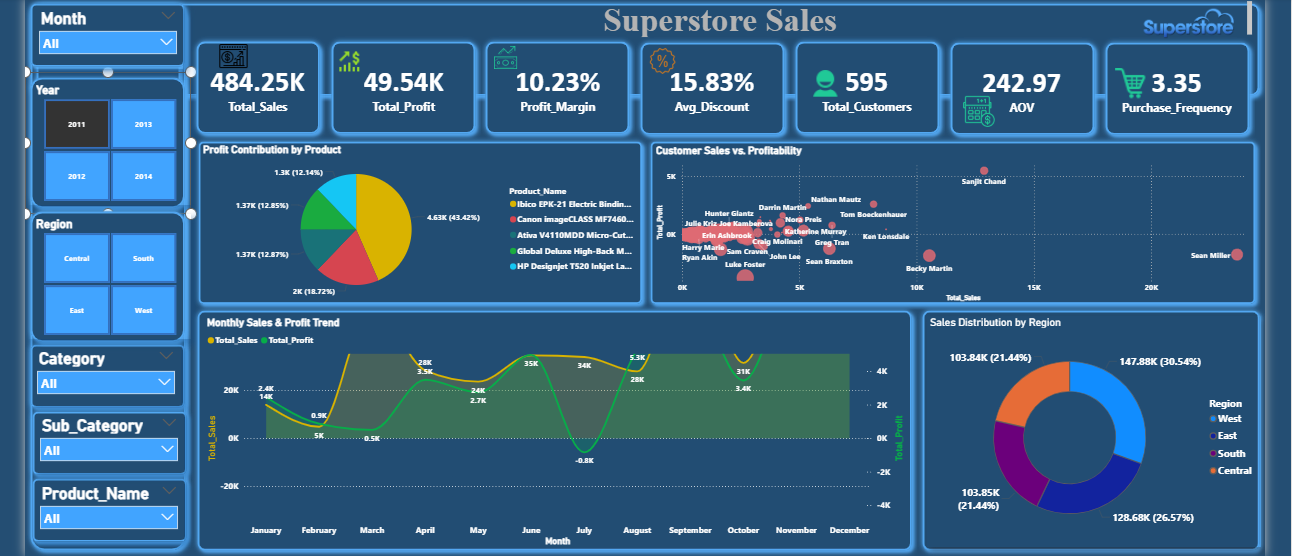

What the dashboard file says about the page in this screenshot:
{"tool":"powerbi","page":{"name":"Page 1","canvas":[2000,900],"ordinal":0},"visuals":[{"type":"shape","box":[0,0,2000,166.7],"z":0},{"type":"shape","box":[0,0,268.3,900],"z":1000},{"type":"shape","box":[268.3,61.2,216.7,166.7],"z":2000,"group":"g5"},{"type":"group","id":"g1","title":"Group 1","box":[1733.4,62.9,250,166.7],"z":2000,"group":"g18"},{"type":"shape","box":[484.7,60.7,250,166.7],"z":3000,"group":"g4"},{"type":"group","id":"g2","title":"Group 2","box":[1483.6,62.5,250,166.7],"z":3000,"group":"g19"},{"type":"shape","box":[10,10,250,166.7],"z":4000},{"type":"shape","box":[734.4,61.6,250,166.7],"z":4000,"group":"g3"},{"type":"shape","box":[984.2,63.3,250,166.7],"z":4000,"group":"g16"},{"type":"group","id":"g3","title":"Group 4","box":[734.4,61.6,250,166.7],"z":5000,"group":"g22"},{"type":"shape","box":[1233.9,62,250,166.7],"z":5000,"group":"g17"},{"type":"group","id":"g4","title":"Group 5","box":[484.7,60.7,250,166.7],"z":6000,"group":"g23"},{"type":"shape","box":[1483.6,62.5,250,166.7],"z":6000,"group":"g2"},{"type":"group","id":"g5","title":"Group 6","box":[268.3,61.2,216.7,166.7],"z":7000,"group":"g21"},{"type":"shape","box":[1733.4,62.9,250,166.7],"z":7000,"group":"g1"},{"type":"card","fields":{"Values":["All_Measure.Total_Sales"]},"box":[281.3,74.5,189.2,138.3],"z":8000,"group":"g5"},{"type":"group","id":"g6","title":"Group 7","box":[0,120,268.3,228.3],"z":8000},{"type":"shape","box":[0,120,266.7,228.3],"z":8000,"group":"g6"},{"type":"shape","box":[0,335,266.7,228.3],"z":8000,"group":"g8"},{"type":"card","fields":{"Values":["All_Measure.Total_Profit"]},"box":[500,74,218.3,138.3],"z":8001,"group":"g4"},{"type":"card","fields":{"Values":["All_Measure.Profit_Margin"]},"box":[750.1,74.9,218.3,138.3],"z":8002,"group":"g3"},{"type":"card","fields":{"Values":["All_Measure.Avg_Discount"]},"box":[999.2,74.9,218.3,138.3],"z":8002,"group":"g16"},{"type":"card","fields":{"Values":["All_Measure.Total_Customers"]},"box":[1248.2,75.3,218.3,138.3],"z":8003,"group":"g17"},{"type":"card","fields":{"Values":["All_Measure.AOV"]},"box":[1498.3,75.8,218.3,138.3],"z":8004,"group":"g2"},{"type":"card","fields":{"Values":["All_Measure.Purchase_Frequency"]},"box":[1748.4,76.1,218.3,138.3],"z":8005,"group":"g1"},{"type":"slicer","fields":{"Values":["FactSales.Order_Date.Variation.Date Hierarchy.Year"]},"box":[5,133.3,263.3,201.7],"z":9000,"group":"g6"},{"type":"slicer","fields":{"Values":["Dim_Geography.Region"]},"box":[5,348.3,263.3,201.7],"z":9000,"group":"g8"},{"type":"group","id":"g7","title":"Group 9","box":[0,550,266.7,120],"z":9000},{"type":"shape","box":[3.3,658.3,266.7,120],"z":9000,"group":"g10"},{"type":"group","id":"g8","title":"Group 10","box":[0,335,268.3,228.3],"z":10000},{"type":"shape","box":[0,0,266.7,120],"z":11000,"group":"g11"},{"type":"group","id":"g9","title":"Group 8","box":[3.3,766.7,266.7,120],"z":11000},{"type":"group","id":"g10","title":"Group 11","box":[3.3,658.3,266.7,120],"z":12000},{"type":"group","id":"g11","title":"Group 12","box":[0,0,266.7,120],"z":13000},{"type":"slicer","fields":{"Values":["FactSales.Order_Date.Variation.Date Hierarchy.Month"]},"box":[13.3,11.7,241.7,103.3],"z":13000,"group":"g11"},{"type":"shape","box":[0,550,266.7,120],"z":13000,"group":"g7"},{"type":"group","id":"g12","title":"Group 13","box":[1000,223.3,993.3,280],"z":14000},{"type":"shape","box":[270,495,1170,405],"z":14000,"group":"g14"},{"type":"slicer","fields":{"Values":["Dim_Product.Category"]},"box":[10,560,241.7,98.3],"z":14000,"group":"g7"},{"type":"shape","box":[3.3,766.7,266.7,120],"z":14000,"group":"g9"},{"type":"group","id":"g13","title":"Group 14","box":[1438.3,495,561.7,405],"z":15000},{"type":"areaChart","title":"Monthly Sales & Profit Trend","fields":{"Category":["FactSales.Order_Date.Variation.Date Hierarchy.Month"],"Y":["All_Measure.Total_Sales"],"Y2":["All_Measure.Total_Profit"]},"box":[290,513.3,1133.3,376.7],"z":15000,"group":"g14"},{"type":"slicer","fields":{"Values":["Dim_Product.Sub_Category"]},"box":[15,668.3,241.7,98.3],"z":15000,"group":"g10"},{"type":"group","id":"g14","title":"Group 15","box":[270,495,1170,405],"z":16000},{"type":"shape","box":[1438.3,495,561.7,405],"z":16000,"group":"g13"},{"type":"slicer","fields":{"Values":["Dim_Product.Product_Name"]},"box":[15,778.4,241.7,98.3],"z":16000,"group":"g9"},{"type":"group","id":"g15","title":"Group 16","box":[271.7,223.3,733.3,280],"z":17000},{"type":"donutChart","title":"Sales Distribution by Region","fields":{"Category":["Dim_Geography.Region"],"Y":["All_Measure.Total_Sales"]},"box":[1455,513.3,538.3,373.3],"z":17000,"group":"g13"},{"type":"textbox","box":[266,0,1718,68],"z":18000},{"type":"shape","box":[271.7,223.3,733.3,280],"z":18000,"group":"g15"},{"type":"group","id":"g16","title":"Group 4","box":[984.2,63.3,250,166.7],"z":19000,"group":"g24"},{"type":"pieChart","title":"Profit Contribution by Product","fields":{"Category":["Dim_Product.Product_Name"],"Y":["All_Measure.Total_Profit"]},"box":[283.4,235,716.7,260],"z":19000,"group":"g15"},{"type":"group","id":"g17","title":"Group 3","box":[1233.9,62,250,166.7],"z":20000,"group":"g20"},{"type":"shape","box":[1000,223.3,993.3,280],"z":20000,"group":"g12"},{"type":"image","box":[1789.4,10.8,176.4,57.6],"z":21000},{"type":"scatterChart","title":"Customer Sales vs. Profitability","fields":{"X":["All_Measure.Total_Sales"],"Y":["All_Measure.Total_Profit"],"Category":["Dim_Customer.Customer_Name"],"Size":["Sum(FactSales.Discount)"]},"box":[1012.4,235.7,970.9,258.7],"z":21000,"group":"g12"},{"type":"image","box":[282.6,68.4,108,52.2],"z":22000,"group":"g21"},{"type":"image","box":[500.4,75.6,43.2,52.2],"z":22001,"group":"g23"},{"type":"image","box":[738,72,75.6,50.4],"z":22002,"group":"g22"},{"type":"image","box":[984.7,79.2,88.2,45],"z":22003,"group":"g24"},{"type":"image","box":[1269.1,95.4,43.2,84.6],"z":22004,"group":"g20"},{"type":"image","box":[1508.5,133.2,55.8,91.8],"z":22005,"group":"g19"},{"type":"image","box":[1715.6,113.4,133.2,48.6],"z":22006,"group":"g18"},{"type":"group","id":"g18","title":"Group 17","box":[1715.6,62.9,267.8,166.7],"z":22007},{"type":"group","id":"g19","title":"Group 18","box":[1483.6,62.5,250,166.7],"z":22008},{"type":"group","id":"g20","title":"Group 19","box":[1233.9,62,250,166.7],"z":22009},{"type":"group","id":"g21","title":"Group 23","box":[268.3,61.2,216.7,166.7],"z":22013},{"type":"group","id":"g22","title":"Group 21","box":[734.4,61.6,250,166.7],"z":22014},{"type":"group","id":"g23","title":"Group 22","box":[484.7,60.7,250,166.7],"z":22015},{"type":"group","id":"g24","title":"Group 20","box":[984.2,63.3,250,166.7],"z":22016}]}

Visuals, with their boxes in screenshot pixels (x1, y1, x2, y2):
shape: [27,0,1244,101]
shape: [27,0,190,547]
shape: [190,37,322,139]
"Group 1" group: [1081,38,1233,140]
shape: [322,37,474,138]
"Group 2" group: [929,38,1081,139]
shape: [33,6,185,107]
shape: [474,37,626,139]
shape: [626,39,778,140]
"Group 4" group: [474,37,626,139]
shape: [778,38,930,139]
"Group 5" group: [322,37,474,138]
shape: [929,38,1081,139]
"Group 6" group: [190,37,322,139]
shape: [1081,38,1233,140]
card - All_Measure.Total_Sales: [198,45,313,129]
"Group 7" group: [27,73,190,212]
shape: [27,73,189,212]
shape: [27,204,189,343]
card - All_Measure.Total_Profit: [331,45,464,129]
card - All_Measure.Profit_Margin: [483,46,616,130]
card - All_Measure.Avg_Discount: [635,46,768,130]
card - All_Measure.Total_Customers: [786,46,919,130]
card - All_Measure.AOV: [938,46,1071,130]
card - All_Measure.Purchase_Frequency: [1090,46,1223,130]
slicer - FactSales.Order_Date.Variation.Date Hierarchy.Year: [30,81,190,204]
slicer - Dim_Geography.Region: [30,212,190,335]
"Group 9" group: [27,335,189,408]
shape: [29,400,191,473]
"Group 10" group: [27,204,190,343]
shape: [27,0,189,73]
"Group 8" group: [29,466,191,539]
"Group 11" group: [29,400,191,473]
"Group 12" group: [27,0,189,73]
slicer - FactSales.Order_Date.Variation.Date Hierarchy.Month: [35,7,182,70]
shape: [27,335,189,408]
"Group 13" group: [635,136,1239,306]
shape: [191,301,903,547]
slicer - Dim_Product.Category: [33,341,180,400]
shape: [29,466,191,539]
"Group 14" group: [902,301,1244,547]
"Monthly Sales & Profit Trend" areaChart: [203,312,893,541]
slicer - Dim_Product.Sub_Category: [36,407,183,466]
"Group 15" group: [191,301,903,547]
shape: [902,301,1244,547]
slicer - Dim_Product.Product_Name: [36,474,183,533]
"Group 16" group: [192,136,638,306]
"Sales Distribution by Region" donutChart: [912,312,1239,539]
textbox: [189,0,1234,41]
shape: [192,136,638,306]
"Group 4" group: [626,39,778,140]
"Profit Contribution by Product" pieChart: [199,143,635,301]
"Group 3" group: [778,38,930,139]
shape: [635,136,1239,306]
image: [1115,7,1223,42]
"Customer Sales vs. Profitability" scatterChart: [643,143,1233,301]
image: [199,42,265,73]
image: [331,46,358,78]
image: [476,44,522,74]
image: [626,48,680,76]
image: [799,58,825,109]
image: [945,81,978,137]
image: [1071,69,1152,99]
"Group 17" group: [1071,38,1233,140]
"Group 18" group: [929,38,1081,139]
"Group 19" group: [778,38,930,139]
"Group 23" group: [190,37,322,139]
"Group 21" group: [474,37,626,139]
"Group 22" group: [322,37,474,138]
"Group 20" group: [626,39,778,140]
